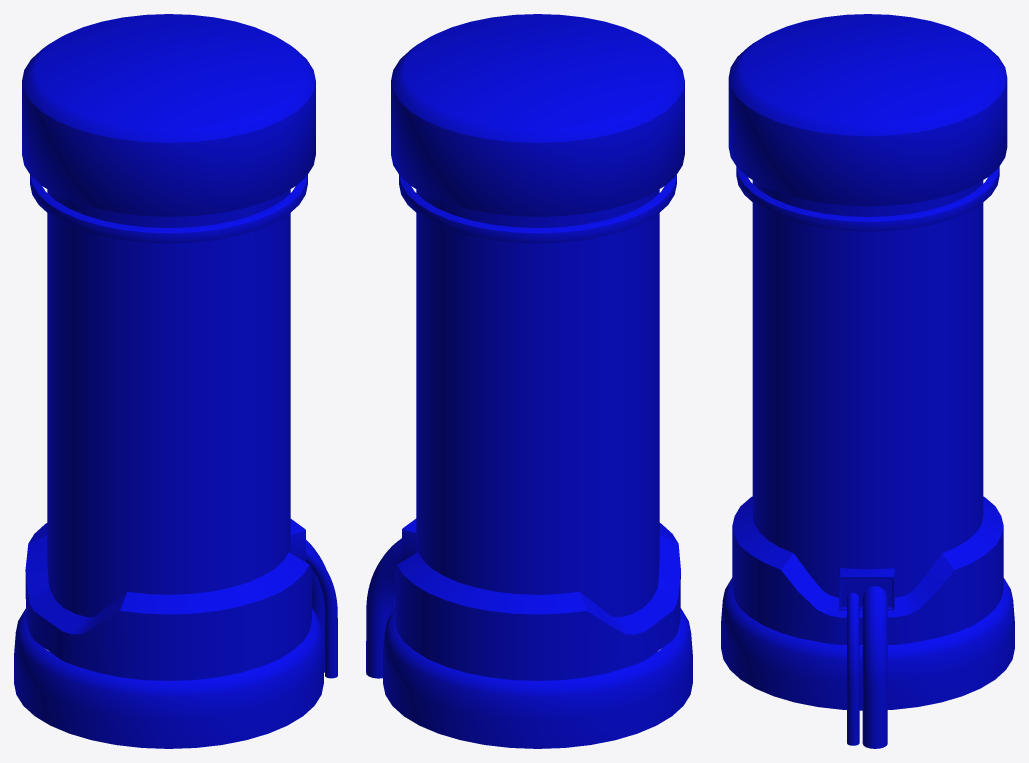
File: TankMain.FBX
The picture shows the model from 3 angles, left to right: view 1: azimuth 30°, elevation 25°; view 2: azimuth 150°, elevation 25°; view 3: azimuth 270°, elevation 25°; orthographic projection. The views are drawn at different scales.
Visible parts, largest first — view 1: Tank_Low; view 2: Tank_Low; view 3: Tank_Low.
Boxes of the visible parts, x1=… form: Tank_Low: x1=14, y1=14, x2=337, y2=748; Tank_Low: x1=366, y1=14, x2=692, y2=748; Tank_Low: x1=721, y1=14, x2=1014, y2=748.
Size of the model in its own units: 51.33 by 104 by 45.82.
